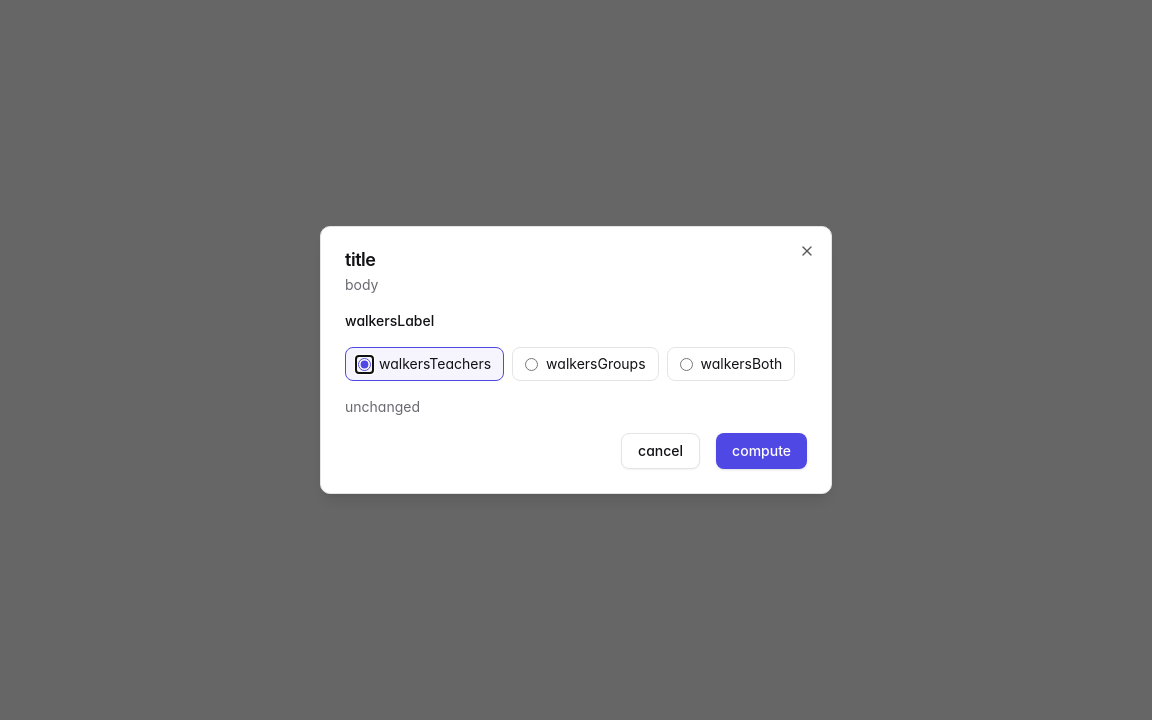
rooms that do not say which floor they are on › are counted again from what the proposal read
What coordinates should you click on to do the following:
click the button "compute"
I would click on:
 (762, 451)
Its box is [716, 433, 807, 469].
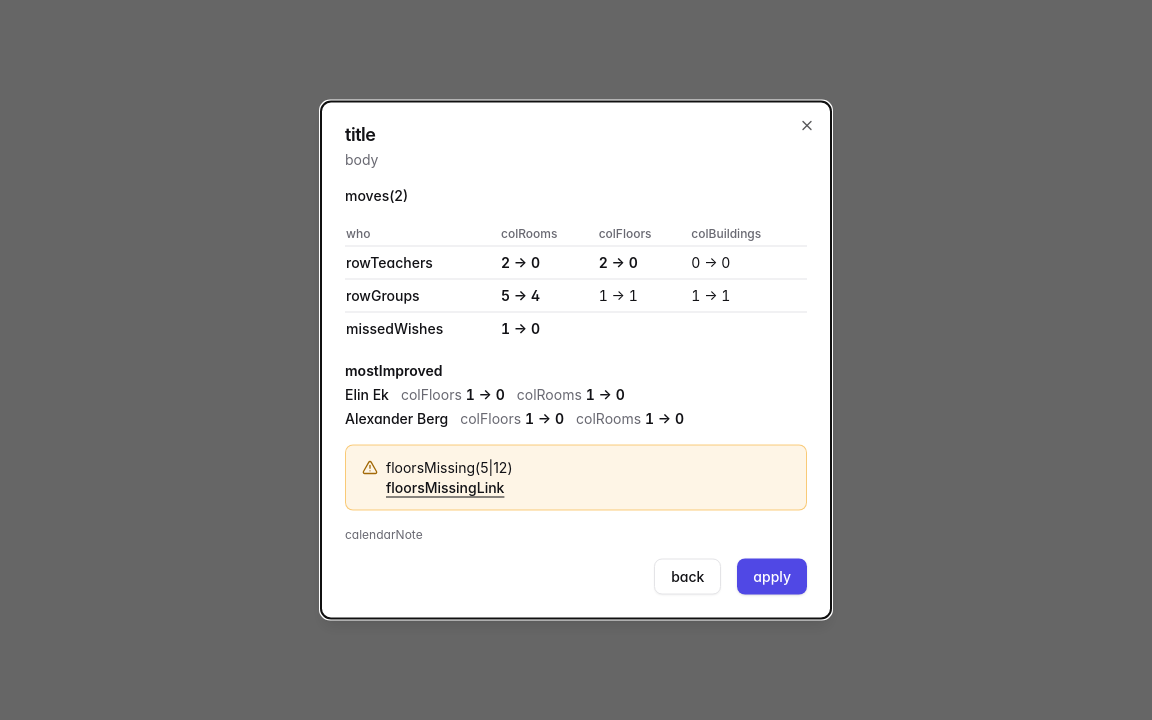
Expected: the text "floorsMissing(5|12)" is shown, [386, 458, 512, 476]
